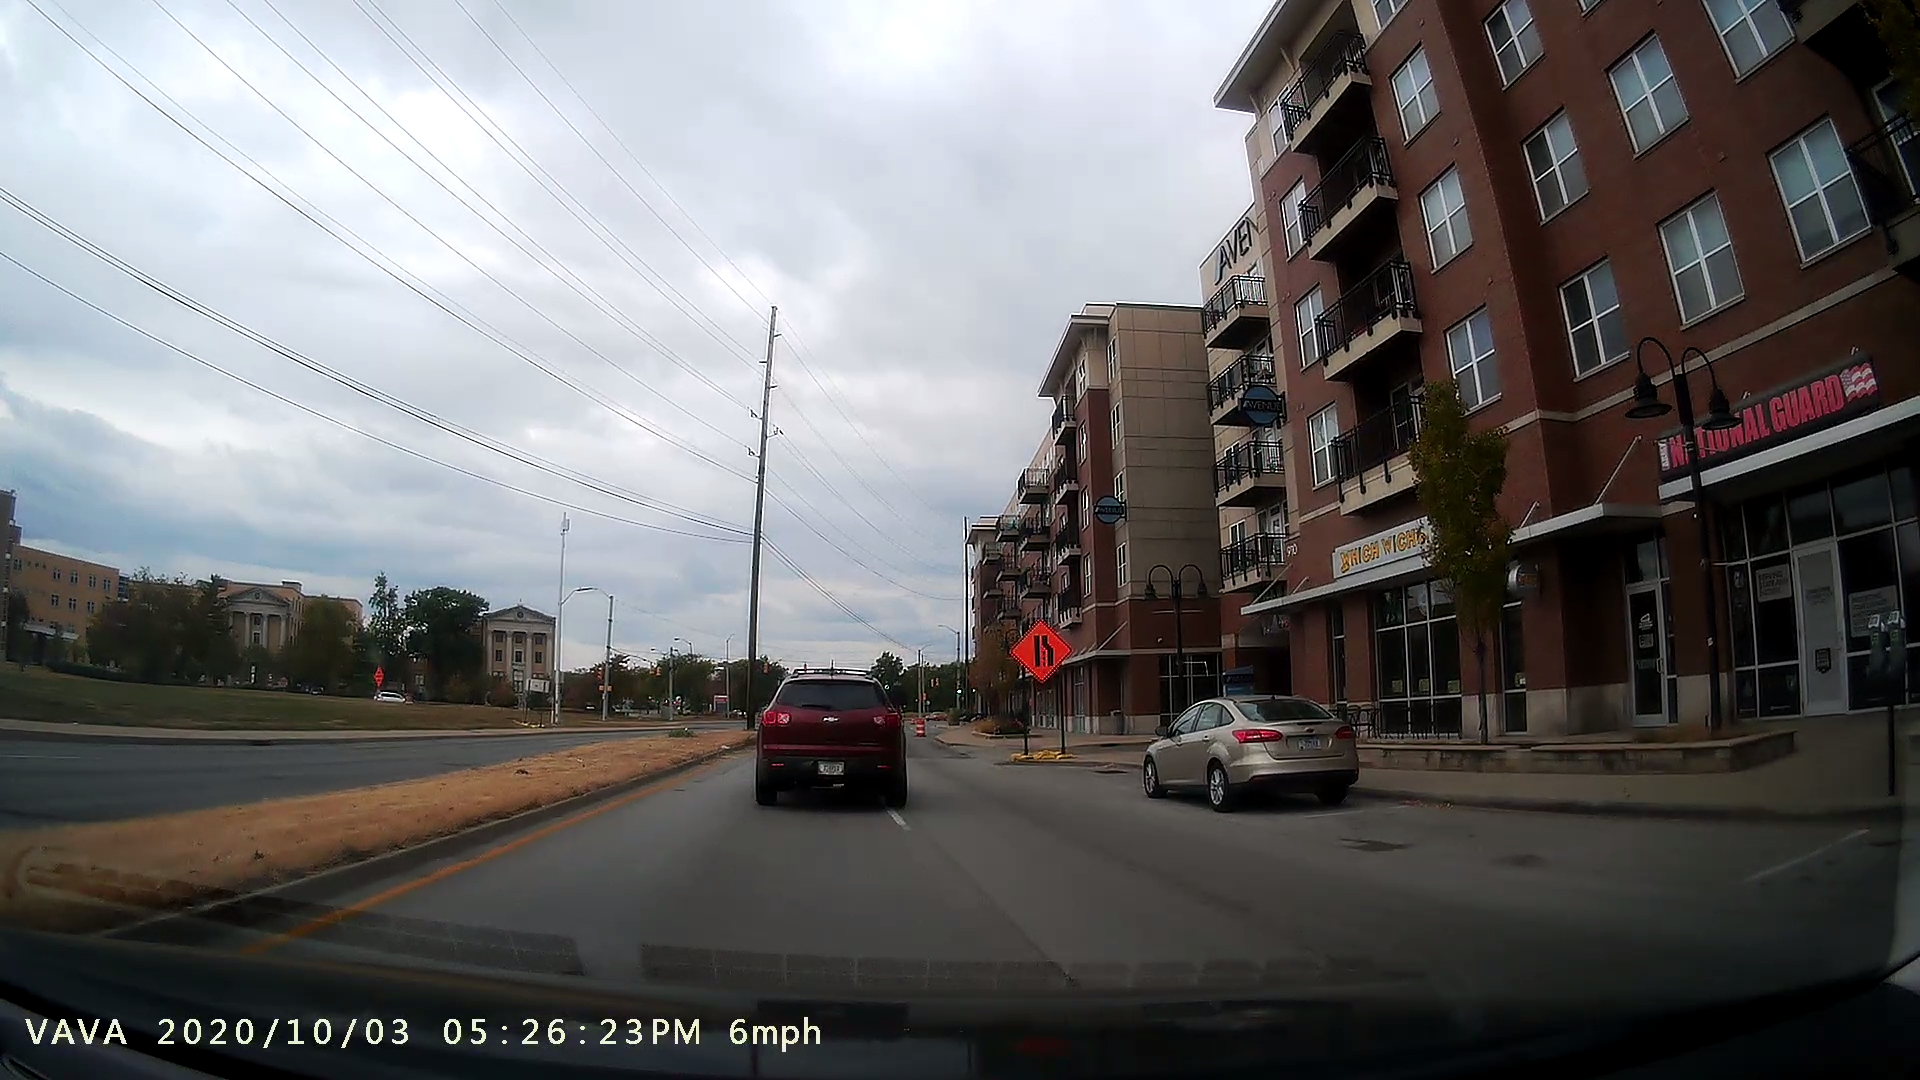ttcs_right_lane_reduction: (1000, 603, 1089, 762)
